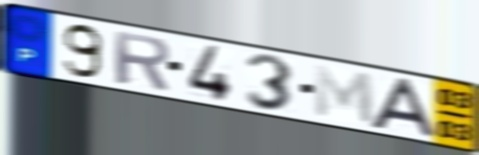3: (244, 53, 297, 114)
4: (186, 43, 234, 104)
9: (60, 23, 105, 80)
A: (367, 76, 440, 141)
M: (312, 63, 377, 129)
R: (110, 28, 173, 93)
